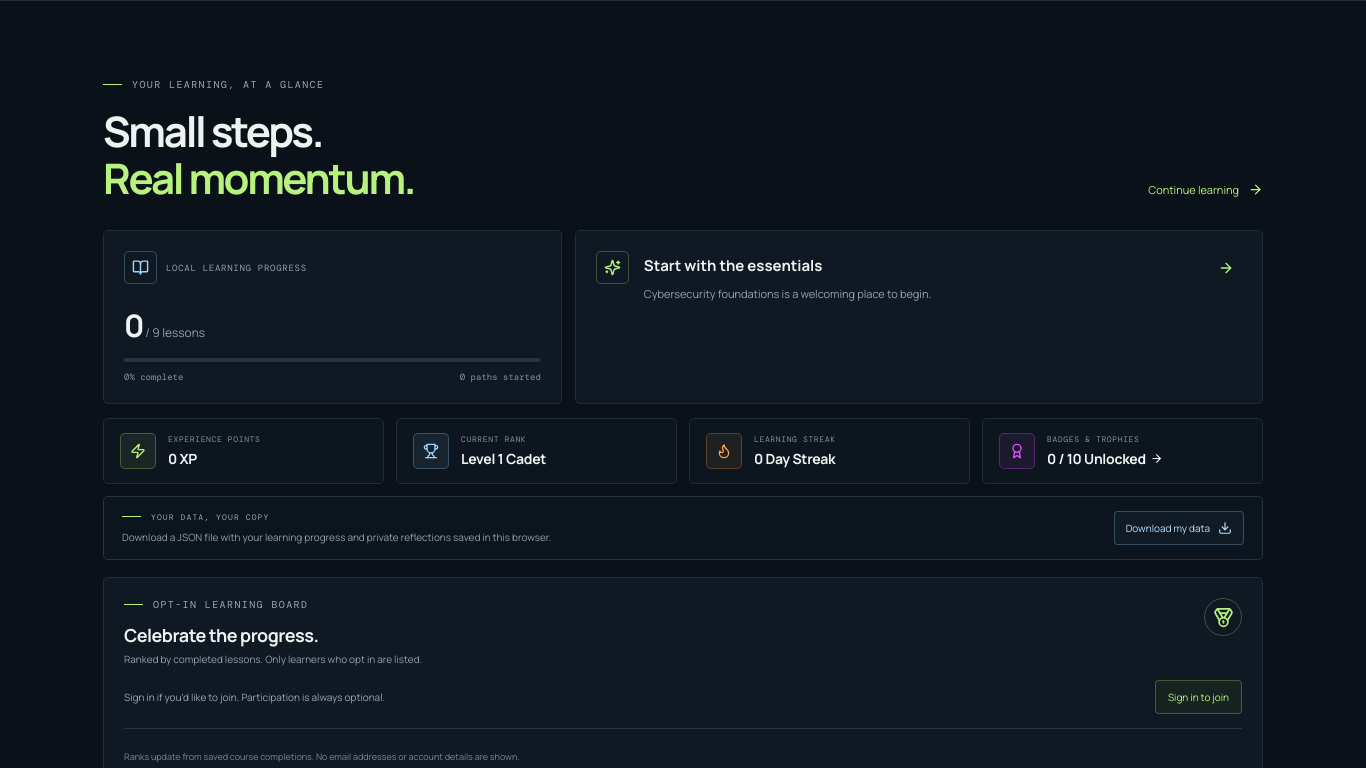
Phase 6: Frontend Gamification Components › StudentDashboard integrates rank progress bar, streaks, and opens achievements modal
Expected: the text "EXPERIENCE POINTS" is shown, [168,434,260,444]
Expected: the text "CURRENT RANK" is shown, [461,434,526,444]
Open achievements modal from dashboard card
Click the button "BADGES & TROPHIES 0 / 10 Unlocked". click: (1122, 451)
box: [982,418,1263,484]
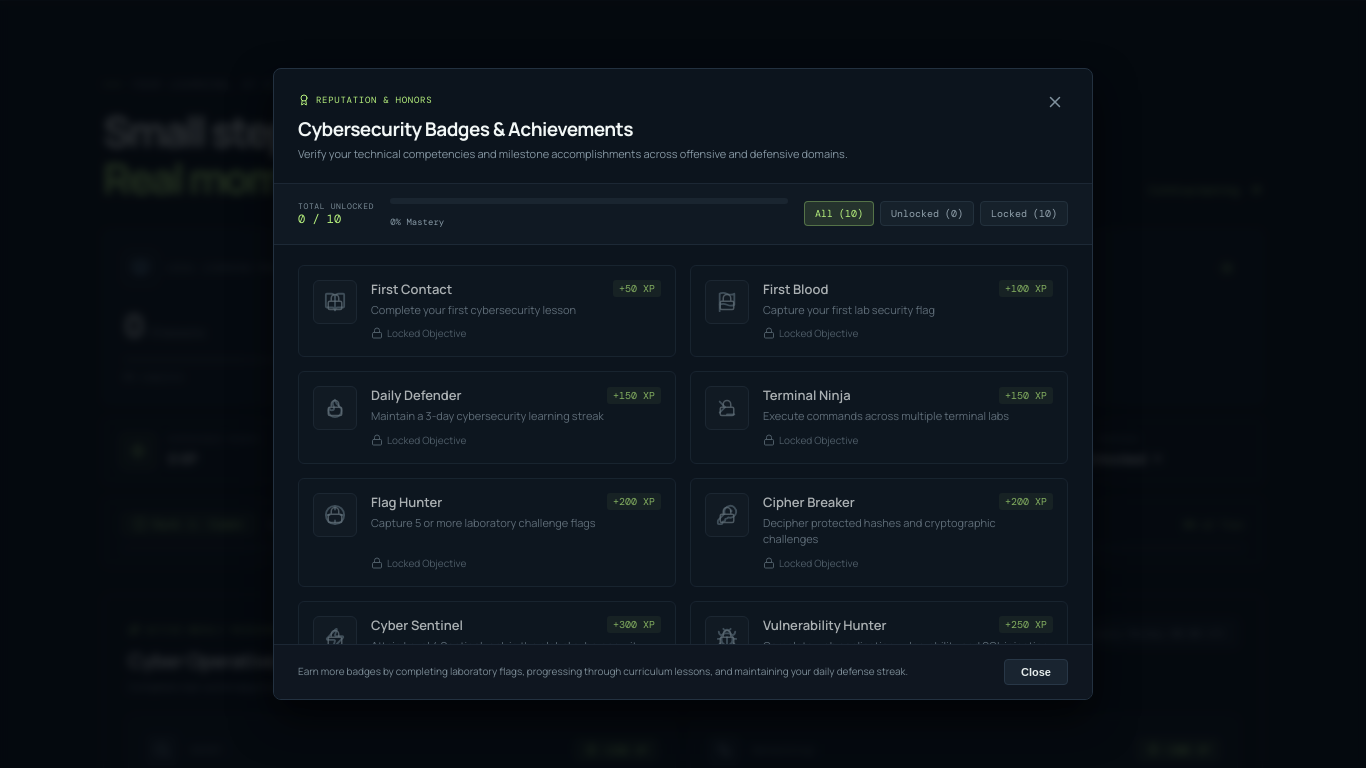
Expected: the heading "Cybersecurity Badges & Achievements" is shown, [298,116,633,142]
Close modal
Click the button named "Close achievements dialog". click: (1055, 104)
box: [1042,89,1068,118]
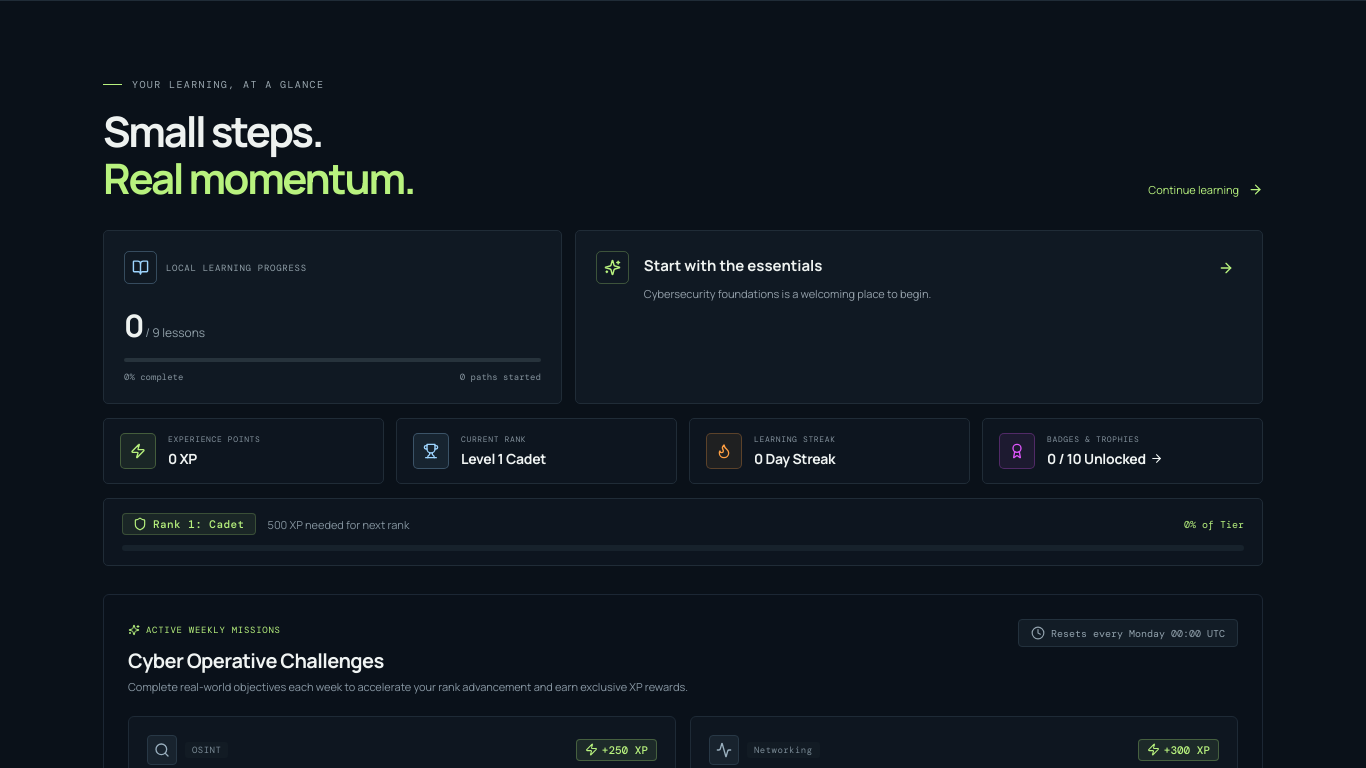
Expected: the heading "Cybersecurity Badges & Achievements" is gone
